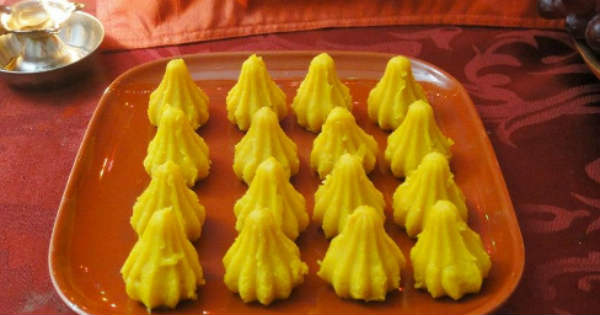modak: (308, 203, 413, 308), (218, 212, 318, 307), (132, 211, 219, 311), (406, 204, 497, 291), (211, 53, 298, 131), (226, 165, 319, 235), (149, 46, 221, 133), (308, 157, 392, 228), (394, 158, 472, 232), (379, 53, 443, 134), (295, 64, 361, 131)
